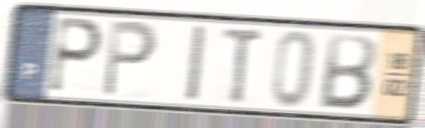0: (269, 27, 318, 111)
B: (316, 31, 379, 112)
I: (185, 22, 209, 104)
P: (100, 18, 160, 100), (47, 15, 106, 97)
T: (221, 25, 266, 106)
